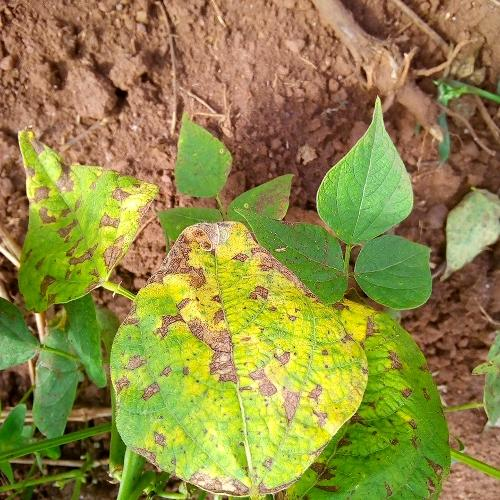mozaik: (121, 218, 365, 434), (0, 153, 185, 312)
